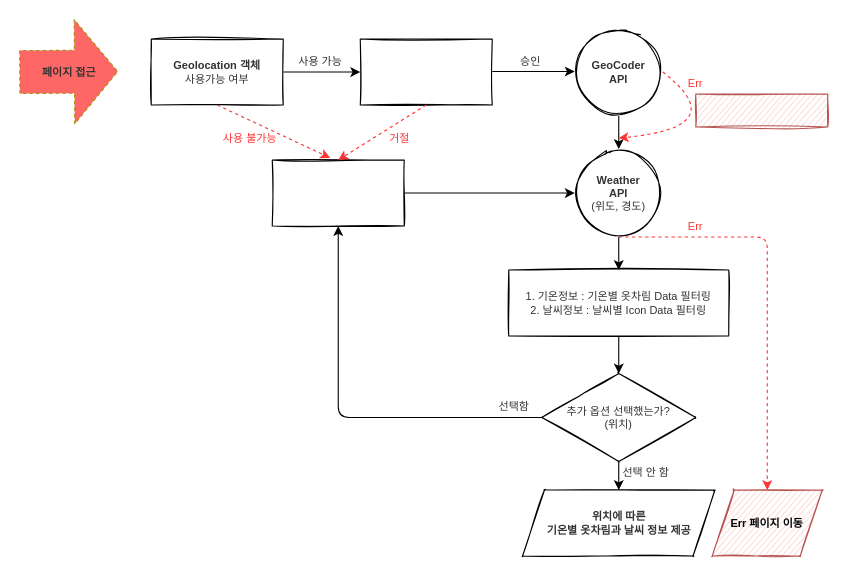
Some shapes in this 847 by 575 pixel diagram are drawn without their labels. The shapes that lost their labels are listed below. From the top down, each one's box as (x1, y1, x2, y2) in pixels, then its label:
(359, 38, 492, 105): Geolocation 승인 / 거절
(695, 93, 828, 127): 경고창 : 지역이름 알 수 없음
(271, 159, 404, 226): 위치 SELECT (기본 : 서울)
